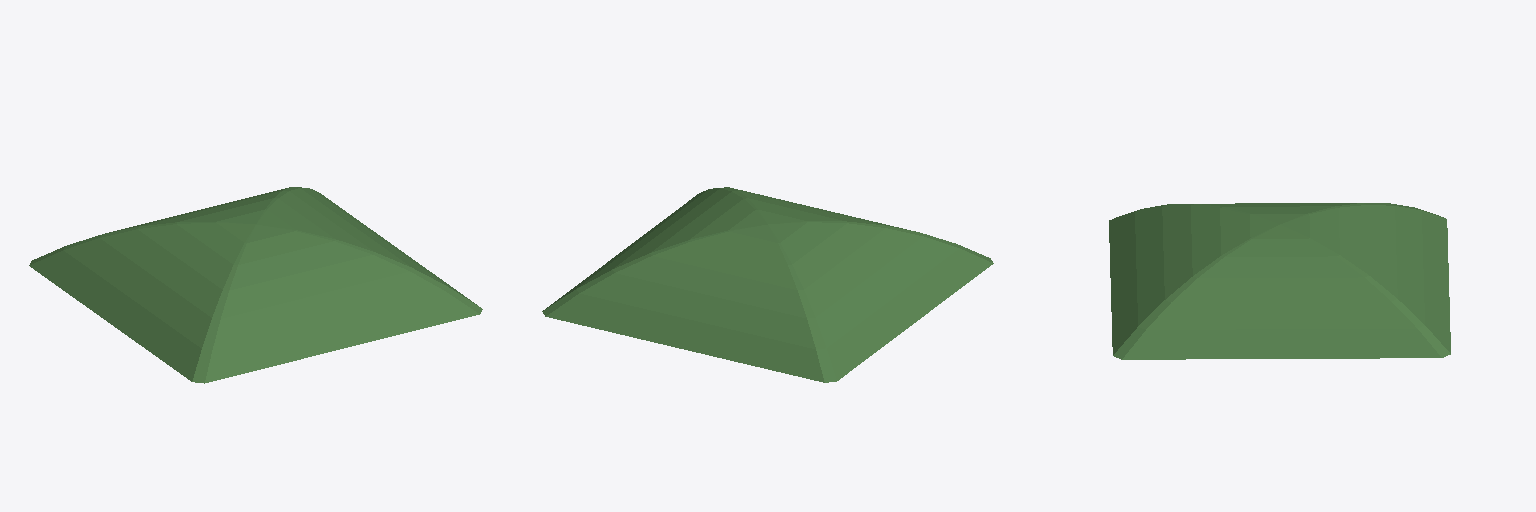
File: poop2.obj
3 renders of one model, left to right at view 1: azimuth 30°, elevation 25°; view 2: azimuth 150°, elevation 25°; view 3: azimuth 270°, elevation 25°, orthographic.
Visible parts, largest first — view 1: Mesh1 Group1 Group_3_1 Model; view 2: Mesh1 Group1 Group_3_1 Model; view 3: Mesh1 Group1 Group_3_1 Model.
Part boxes in pixels (x1,y1,x2,y2): Mesh1 Group1 Group_3_1 Model: (29,187,482,383); Mesh1 Group1 Group_3_1 Model: (542,187,993,382); Mesh1 Group1 Group_3_1 Model: (1109,203,1450,359).
Size of the model in its own units: 1.87 by 0.38 by 1.87.